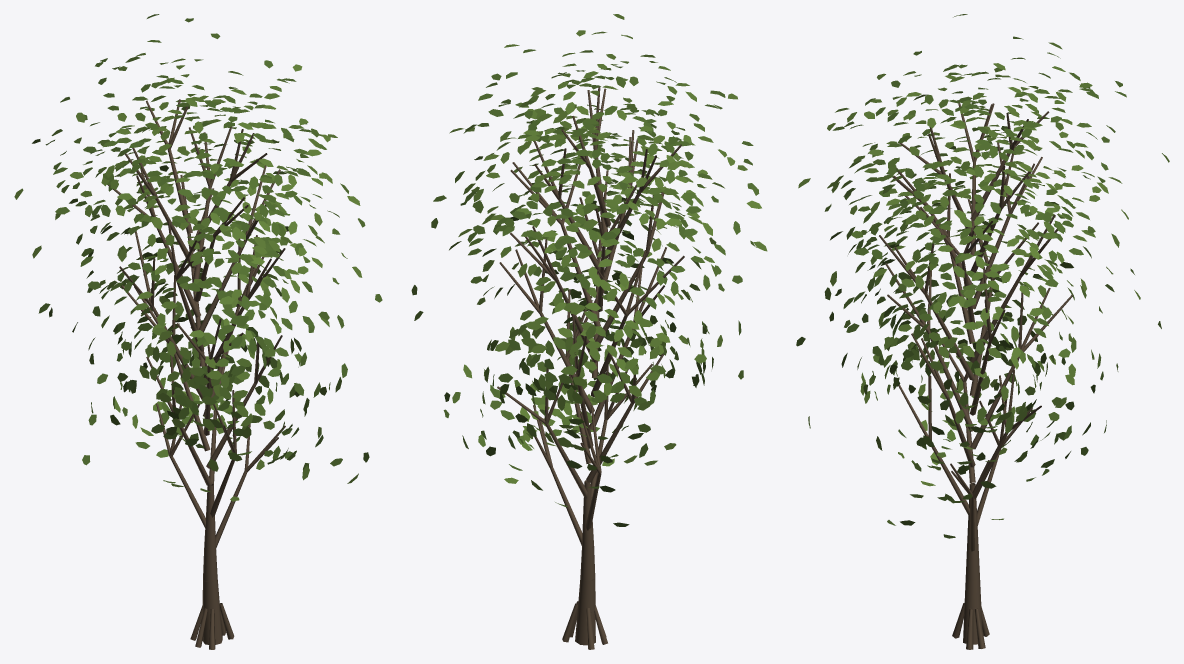
File: poplar_2.glb
3 views of the same model, side by side, from view 1: azimuth 30°, elevation 25°; view 2: azimuth 150°, elevation 25°; view 3: azimuth 270°, elevation 25° (orthographic). The views are drawn at different scales.
Parts seen in each view (by area): view 1: poplar_2_LOD0; view 2: poplar_2_LOD0; view 3: poplar_2_LOD0.
Part boxes in pixels (left/top/right/bottom): poplar_2_LOD0: left=14, top=14, right=382, bottom=649; poplar_2_LOD0: left=411, top=14, right=767, bottom=649; poplar_2_LOD0: left=796, top=14, right=1169, bottom=649.
Size of what is drawn, in the model's own units: 1.75 by 3.05 by 1.79.
